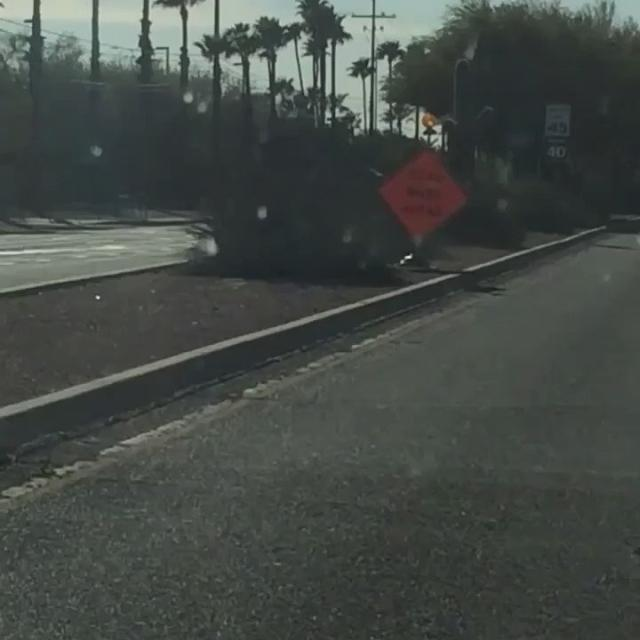roadwork: (367, 135, 475, 266)
